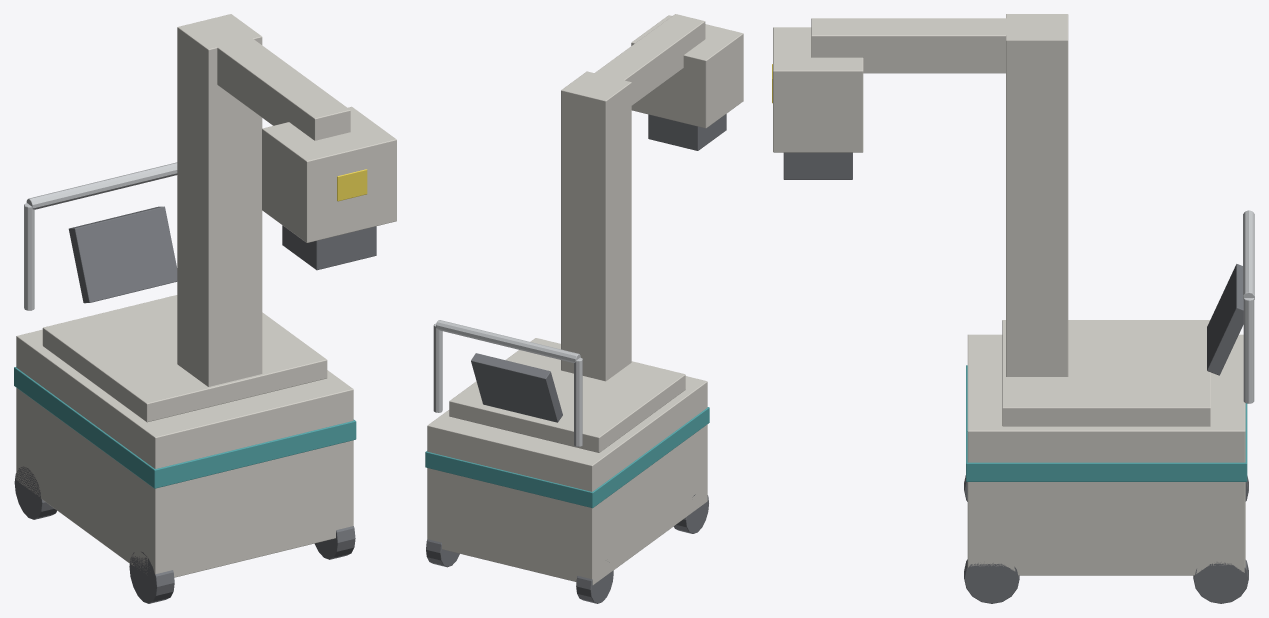
The model's file is mobile_xray.glb.
The picture shows the model from 3 angles, left to right: view 1: azimuth 30°, elevation 25°; view 2: azimuth 150°, elevation 25°; view 3: azimuth 270°, elevation 25°; orthographic projection. The views are drawn at different scales.
Visible parts, largest first — view 1: mobile_xray; view 2: mobile_xray; view 3: mobile_xray.
Part boxes in pixels (x1=…): mobile_xray: x1=14, y1=14, x2=396, y2=603; mobile_xray: x1=425, y1=14, x2=743, y2=603; mobile_xray: x1=772, y1=14, x2=1254, y2=603.
Size of the model in its own units: 0.67 by 1.68 by 1.39.
